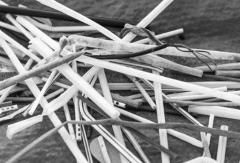general: (76, 53, 240, 105)
